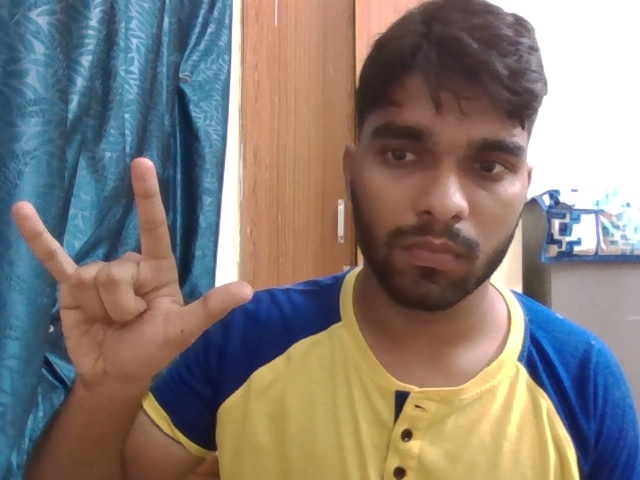I love you: (7, 150, 253, 399)
